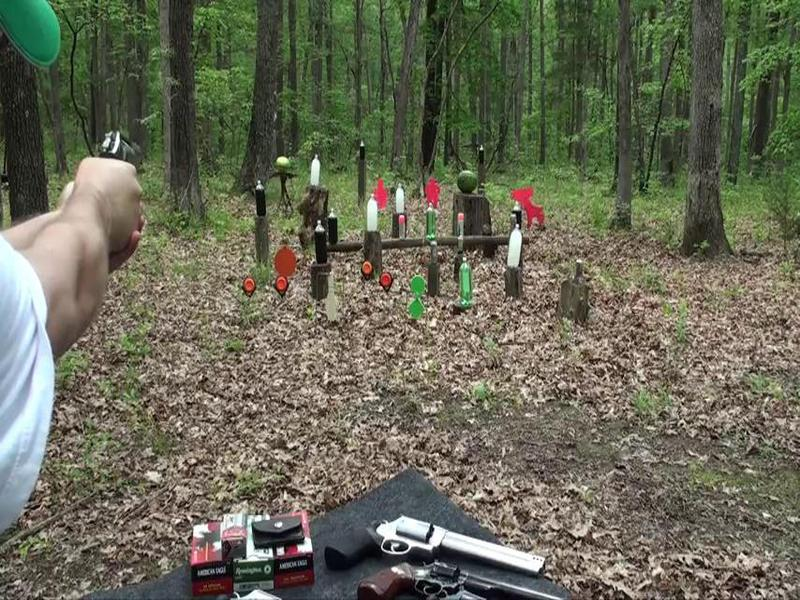Revolver: (86, 109, 145, 196)
